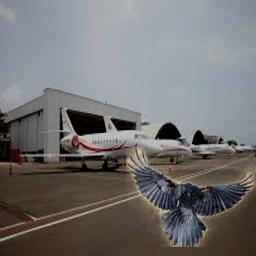Crow: (126, 147, 256, 247)
